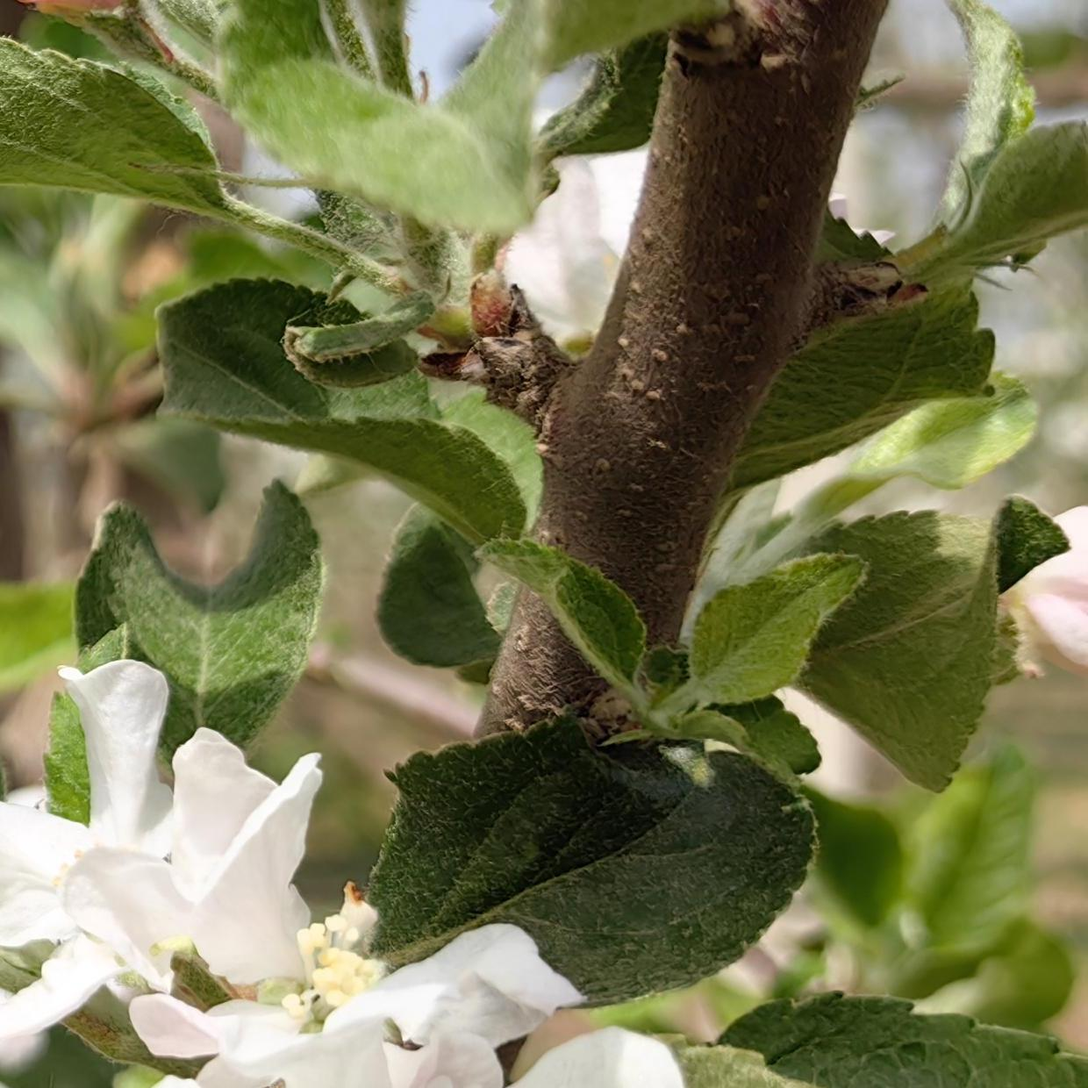apple_flower: (0, 659, 690, 1088), (27, 0, 130, 17)
